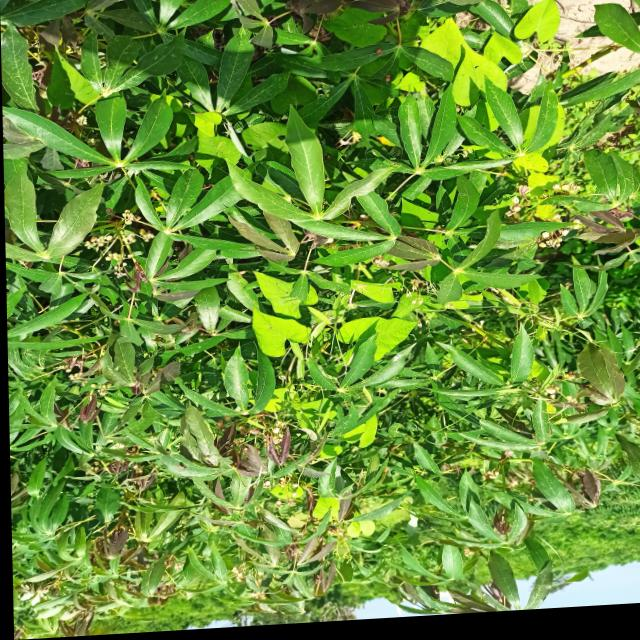Maleza: (436, 23, 515, 100), (245, 306, 324, 357), (347, 315, 427, 351), (347, 279, 413, 318), (178, 105, 224, 133)
Mosca: (376, 73, 397, 90), (369, 38, 382, 58)
